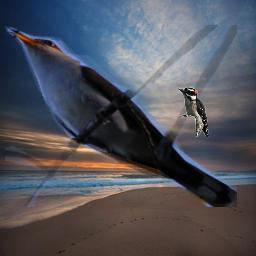Cuckoo: (5, 25, 237, 207)
Woodpecker: (177, 87, 209, 137)
